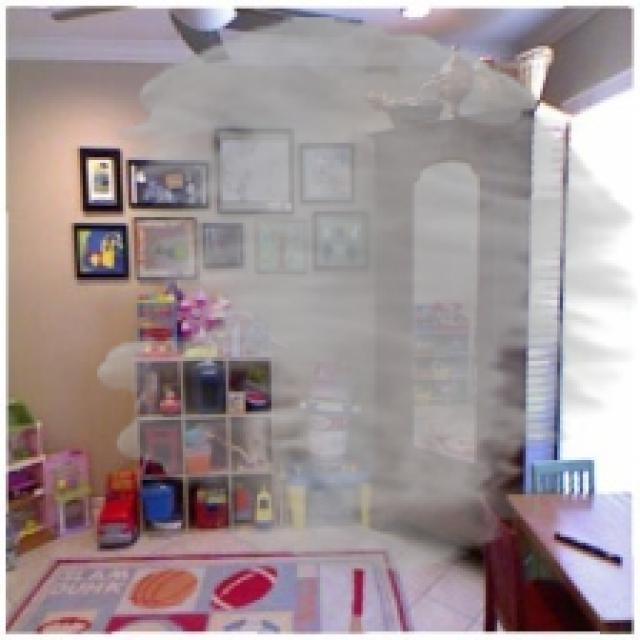Smoke: (97, 17, 637, 574)
